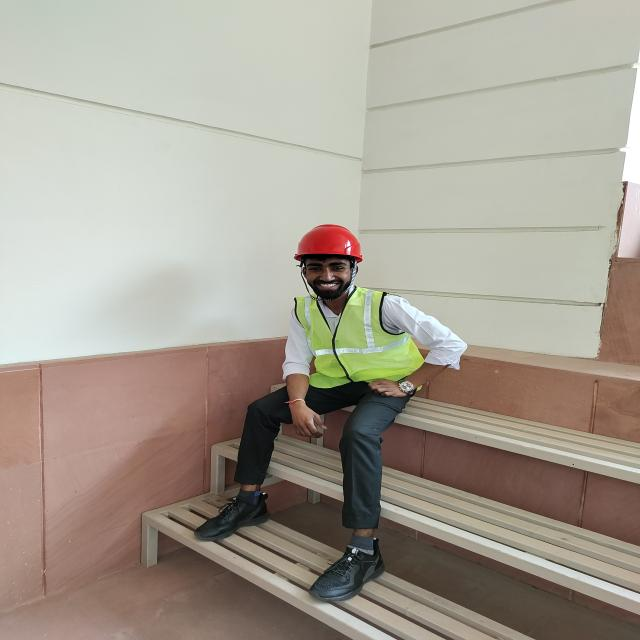safe: (228, 224, 426, 596)
